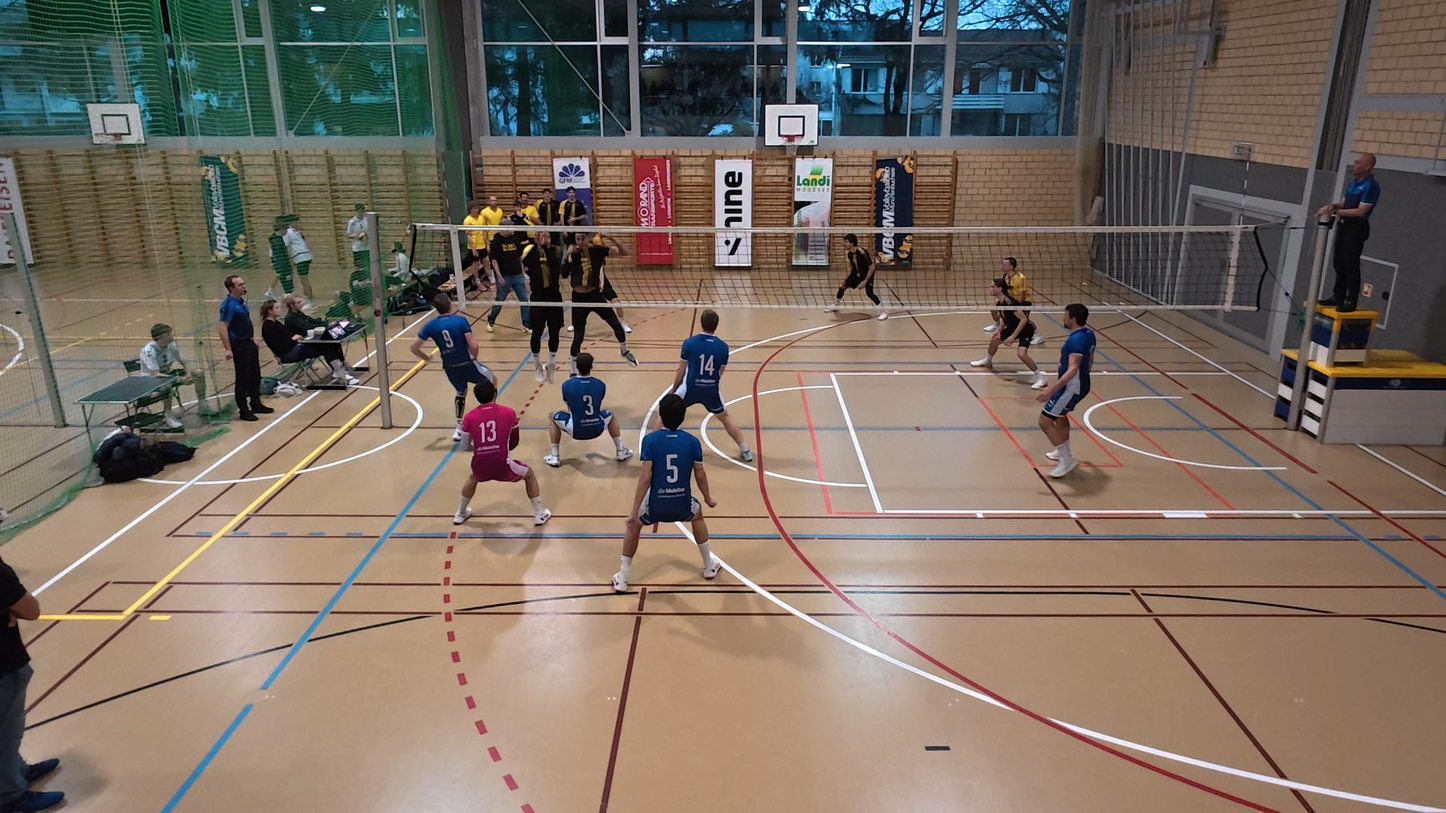Block: (510, 197, 572, 388), (563, 207, 637, 366)
Player: (611, 398, 721, 593), (662, 310, 753, 463), (454, 381, 550, 526), (410, 291, 499, 444), (1037, 303, 1096, 477), (544, 352, 632, 467), (975, 275, 1041, 388), (828, 234, 885, 319), (982, 256, 1032, 334)
ball: (519, 203, 541, 225)
